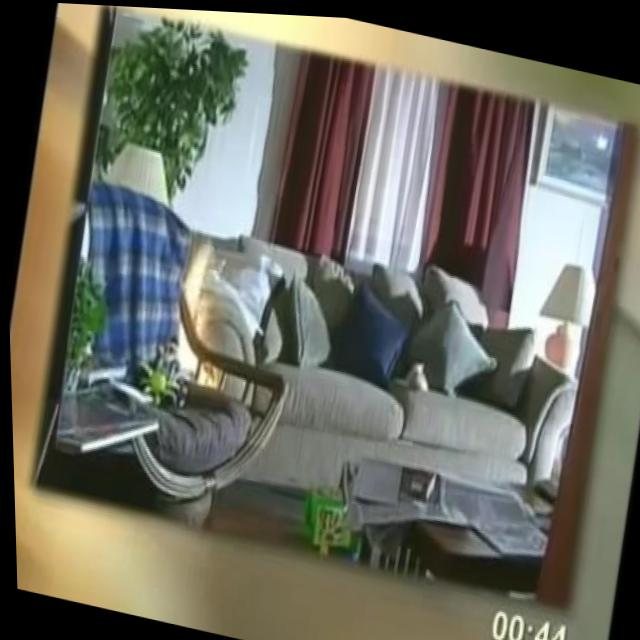fire: (156, 229, 245, 388)
